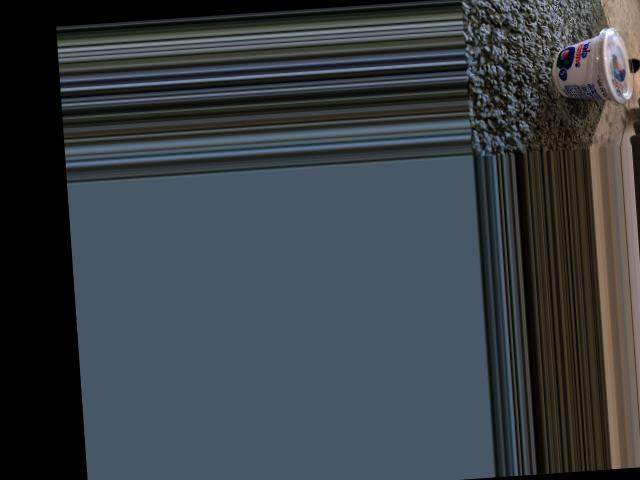cotage: (547, 31, 635, 104)
